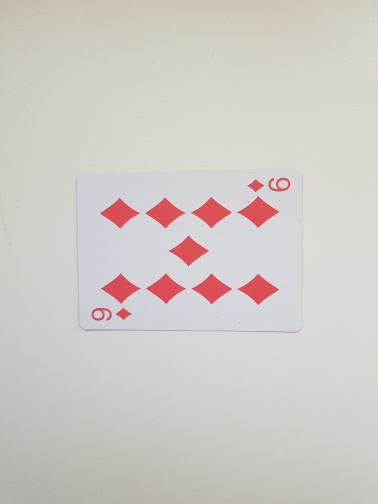nine: (77, 165, 305, 334)
